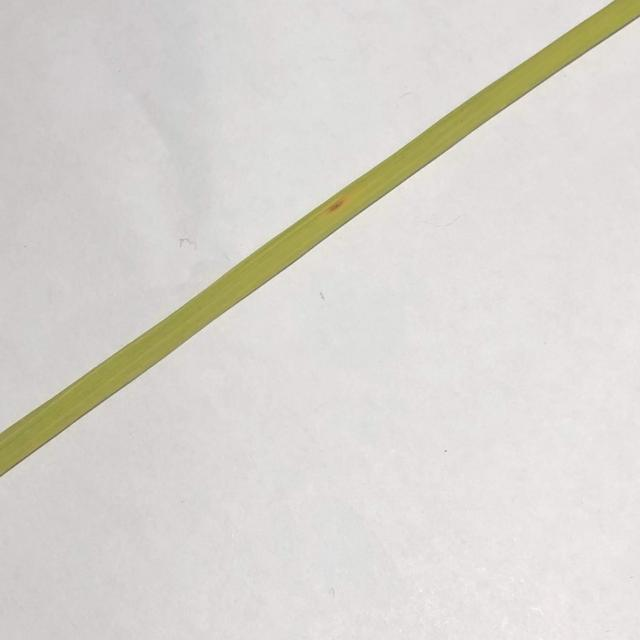brownspots: (321, 194, 352, 219)
